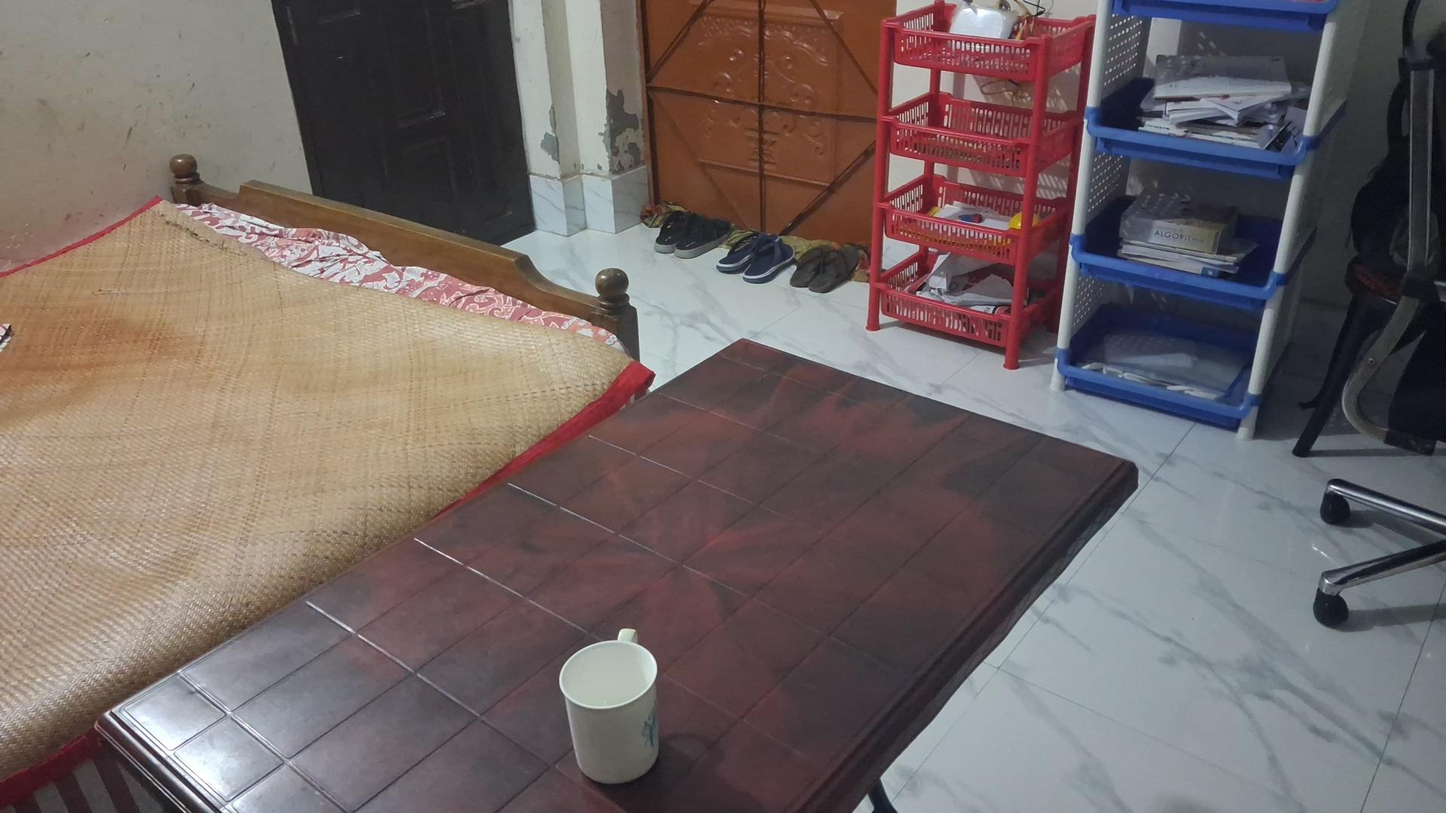Cup: (558, 628, 660, 785)
Footwear: (717, 233, 793, 283), (651, 212, 729, 260), (790, 244, 858, 293)
Rack: (1055, 0, 1357, 448), (865, 0, 1095, 369)
Table: (99, 340, 1138, 813)
